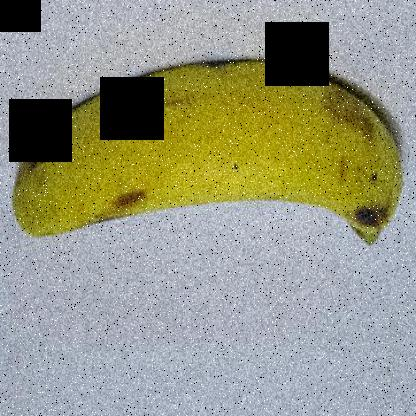freshripe: (8, 42, 415, 268)
